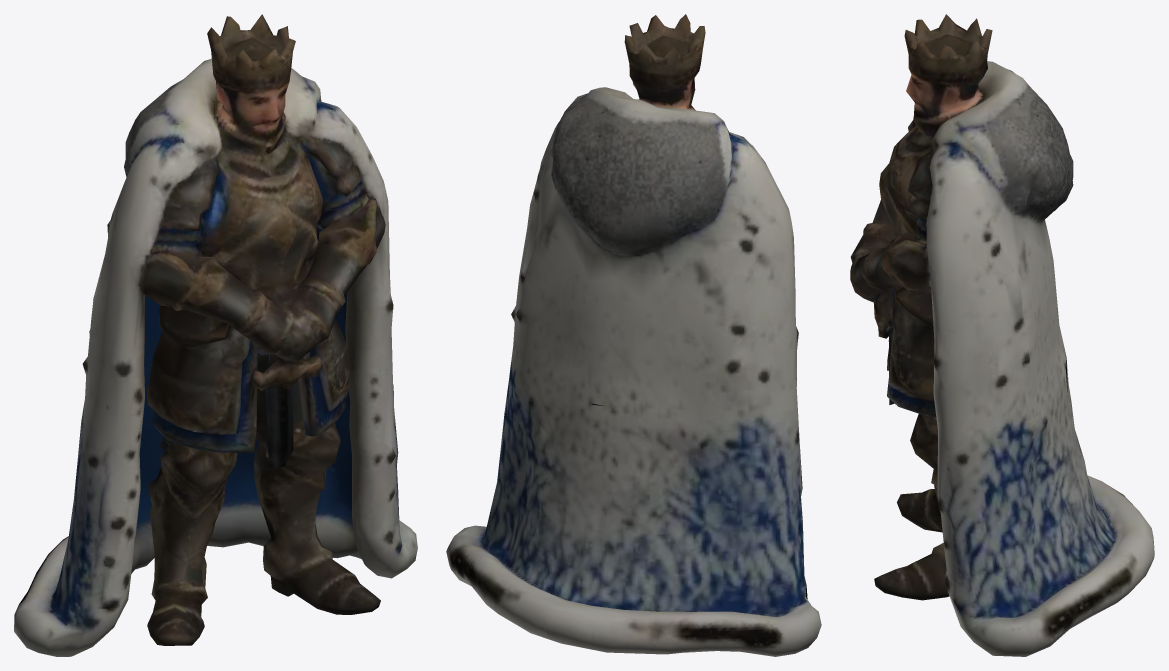
Rendered from detail_8_lo.glb.
The picture shows the model from 3 angles, left to right: view 1: azimuth 30°, elevation 25°; view 2: azimuth 150°, elevation 25°; view 3: azimuth 270°, elevation 25°; orthographic projection. The views are drawn at different scales.
Visible parts, largest first — view 1: Mesh_0.001; view 2: Mesh_0.001; view 3: Mesh_0.001.
Part boxes in pixels (left/top/right/bottom): Mesh_0.001: left=14, top=14, right=417, bottom=656; Mesh_0.001: left=446, top=14, right=821, bottom=656; Mesh_0.001: left=850, top=14, right=1154, bottom=656.
Bounding box in the file's own units: 0.684 × 1.01 × 0.5047.
1 material, 1 textured.
